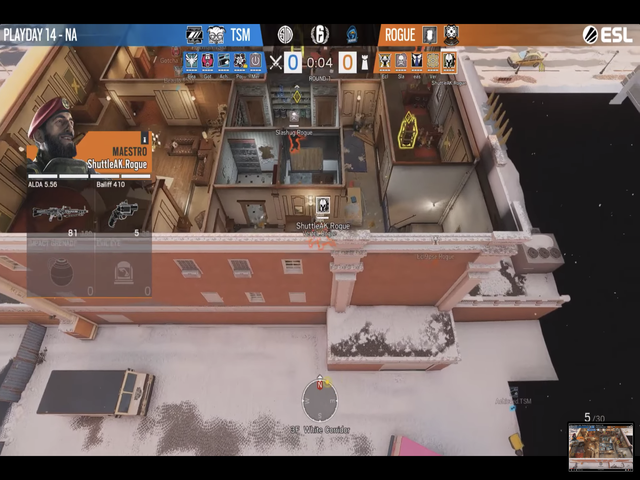0_blue: (284, 51, 302, 72)
